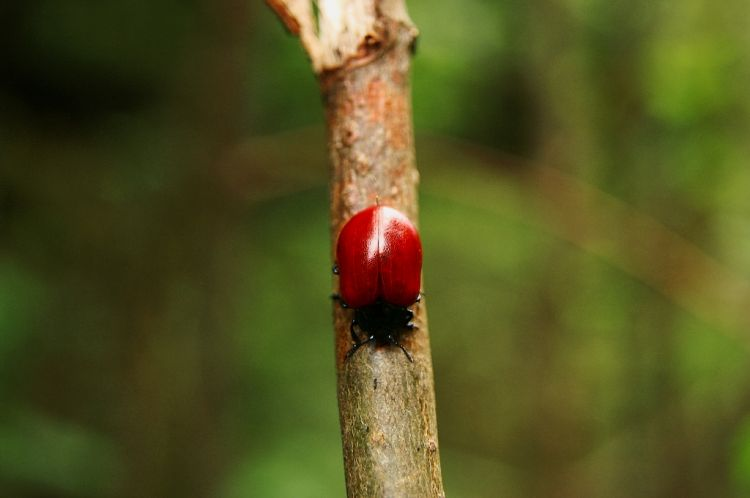Chrysomela_populi: (322, 193, 426, 366)
